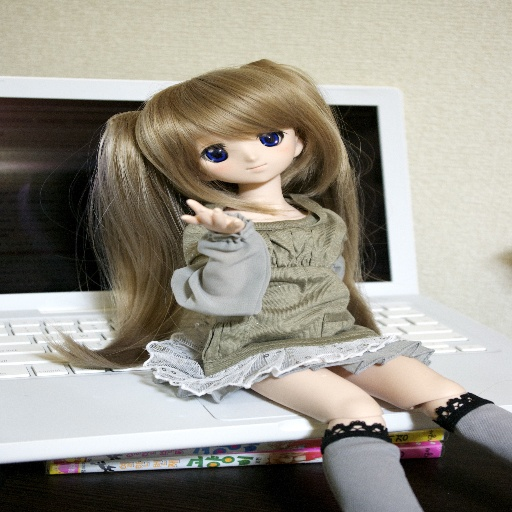hand: (181, 202, 246, 237)
